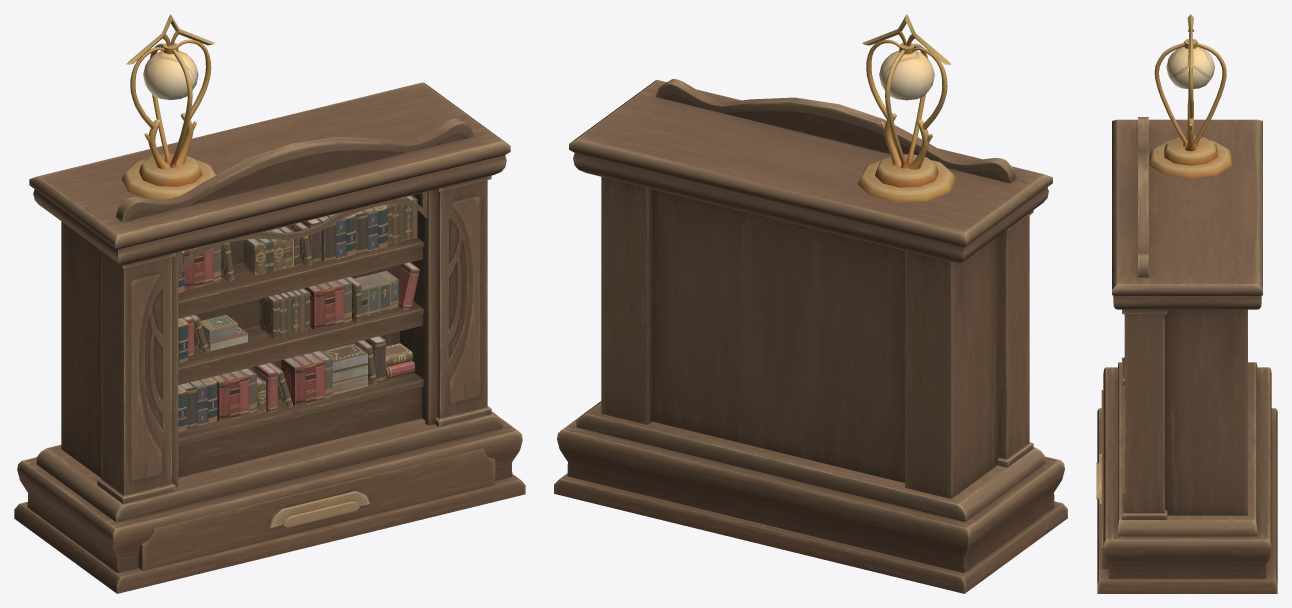
File: Homeworld_Interior_Md_Cabinet_Light_UniteCupboard_01_Lod0.fbx
3 views of the same model, side by side, from view 1: azimuth 30°, elevation 25°; view 2: azimuth 150°, elevation 25°; view 3: azimuth 270°, elevation 25° (orthographic). The views are drawn at different scales.
Visible parts, largest first — view 1: Homeworld_Interior_Md_Cabinet_Light_UniteCupboard_01_Lod0; view 2: Homeworld_Interior_Md_Cabinet_Light_UniteCupboard_01_Lod0; view 3: Homeworld_Interior_Md_Cabinet_Light_UniteCupboard_01_Lod0.
Boxes of the visible parts, x1,y1,x2,y2 form: Homeworld_Interior_Md_Cabinet_Light_UniteCupboard_01_Lod0: [14, 14, 525, 593]; Homeworld_Interior_Md_Cabinet_Light_UniteCupboard_01_Lod0: [554, 14, 1067, 593]; Homeworld_Interior_Md_Cabinet_Light_UniteCupboard_01_Lod0: [1096, 14, 1277, 593].
Bounding box in the file's own units: 1.49 × 1.79 × 0.6525.
Materials: 1 (1 with a texture image).
